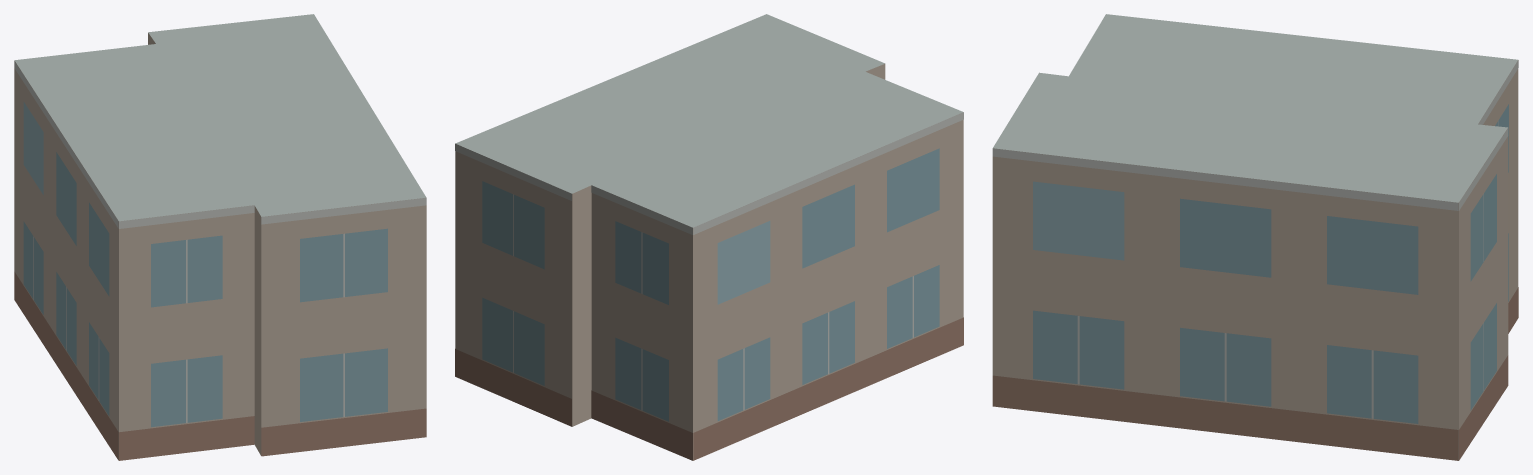
Rendered from survey-upis-32912628.glb.
3 views of the same model, side by side, from view 1: azimuth 30°, elevation 25°; view 2: azimuth 150°, elevation 25°; view 3: azimuth 270°, elevation 25° (orthographic). The views are drawn at different scales.
Parts seen in each view (by area): view 1: survey-upis-32912628.tmp; view 2: survey-upis-32912628.tmp; view 3: survey-upis-32912628.tmp.
Boxes of the visible parts, <box> form: survey-upis-32912628.tmp: <box>14,14,426,460</box>; survey-upis-32912628.tmp: <box>455,14,963,460</box>; survey-upis-32912628.tmp: <box>992,14,1518,460</box>.
Bounding box in the file's own units: 11.93 × 7.6 × 14.04.
